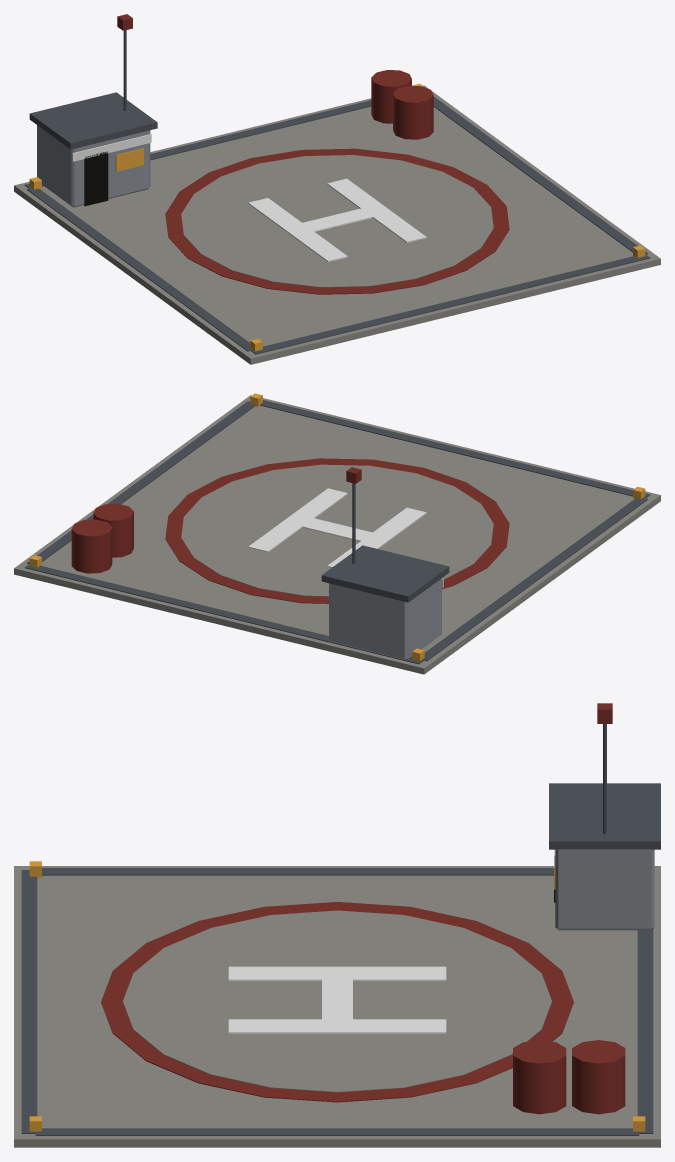
3 renders of one model, top to bottom at view 1: azimuth 30°, elevation 25°; view 2: azimuth 150°, elevation 25°; view 3: azimuth 270°, elevation 25°, orthographic. The views are drawn at different scales.
Parts seen in each view (by area): view 1: garde_building_helipad; view 2: garde_building_helipad; view 3: garde_building_helipad.
Part boxes in pixels (bbox=[...]): garde_building_helipad: bbox=[14, 14, 660, 364]; garde_building_helipad: bbox=[14, 393, 660, 674]; garde_building_helipad: bbox=[14, 703, 660, 1147].
Size of the model in its own units: 20.8 by 8.1 by 20.8.
